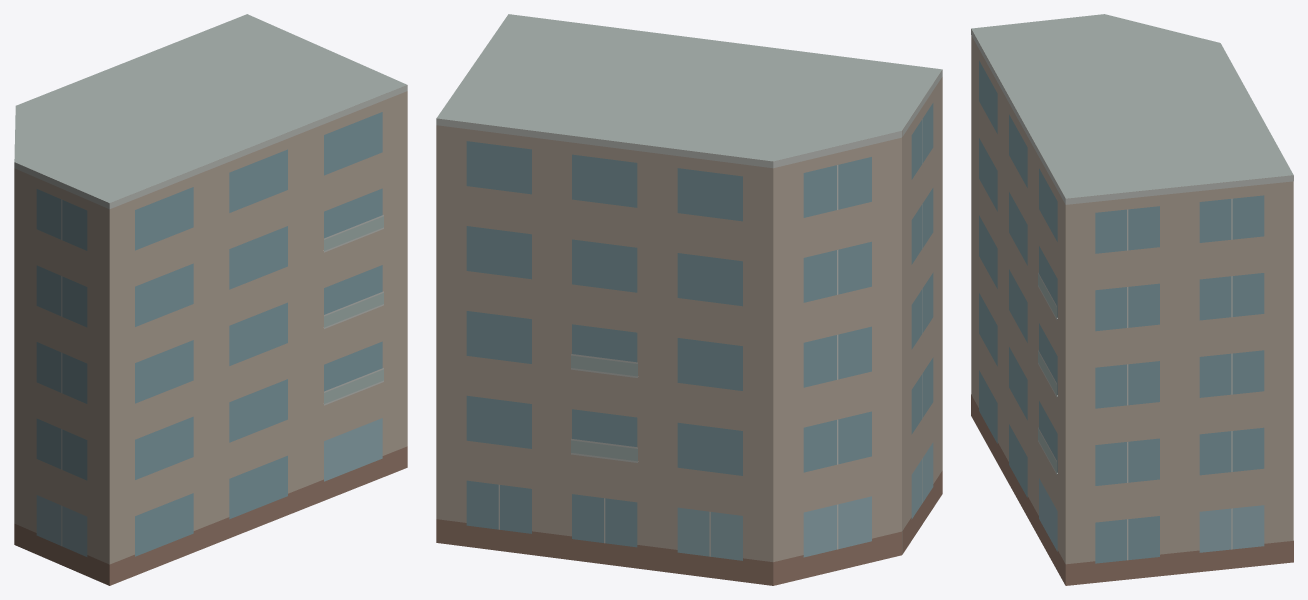
File: survey-upis-32582344.glb
3 renders of one model, left to right at view 1: azimuth 30°, elevation 25°; view 2: azimuth 150°, elevation 25°; view 3: azimuth 270°, elevation 25°, orthographic. The views are drawn at different scales.
Parts seen in each view (by area): view 1: survey-upis-32582344.tmp; view 2: survey-upis-32582344.tmp; view 3: survey-upis-32582344.tmp.
Boxes of the visible parts, x1,y1,x2,y2 form: survey-upis-32582344.tmp: (14, 14, 407, 585); survey-upis-32582344.tmp: (436, 14, 942, 585); survey-upis-32582344.tmp: (971, 14, 1293, 585).
Bounding box in the file's own units: 15.61 × 15.25 × 11.53.
